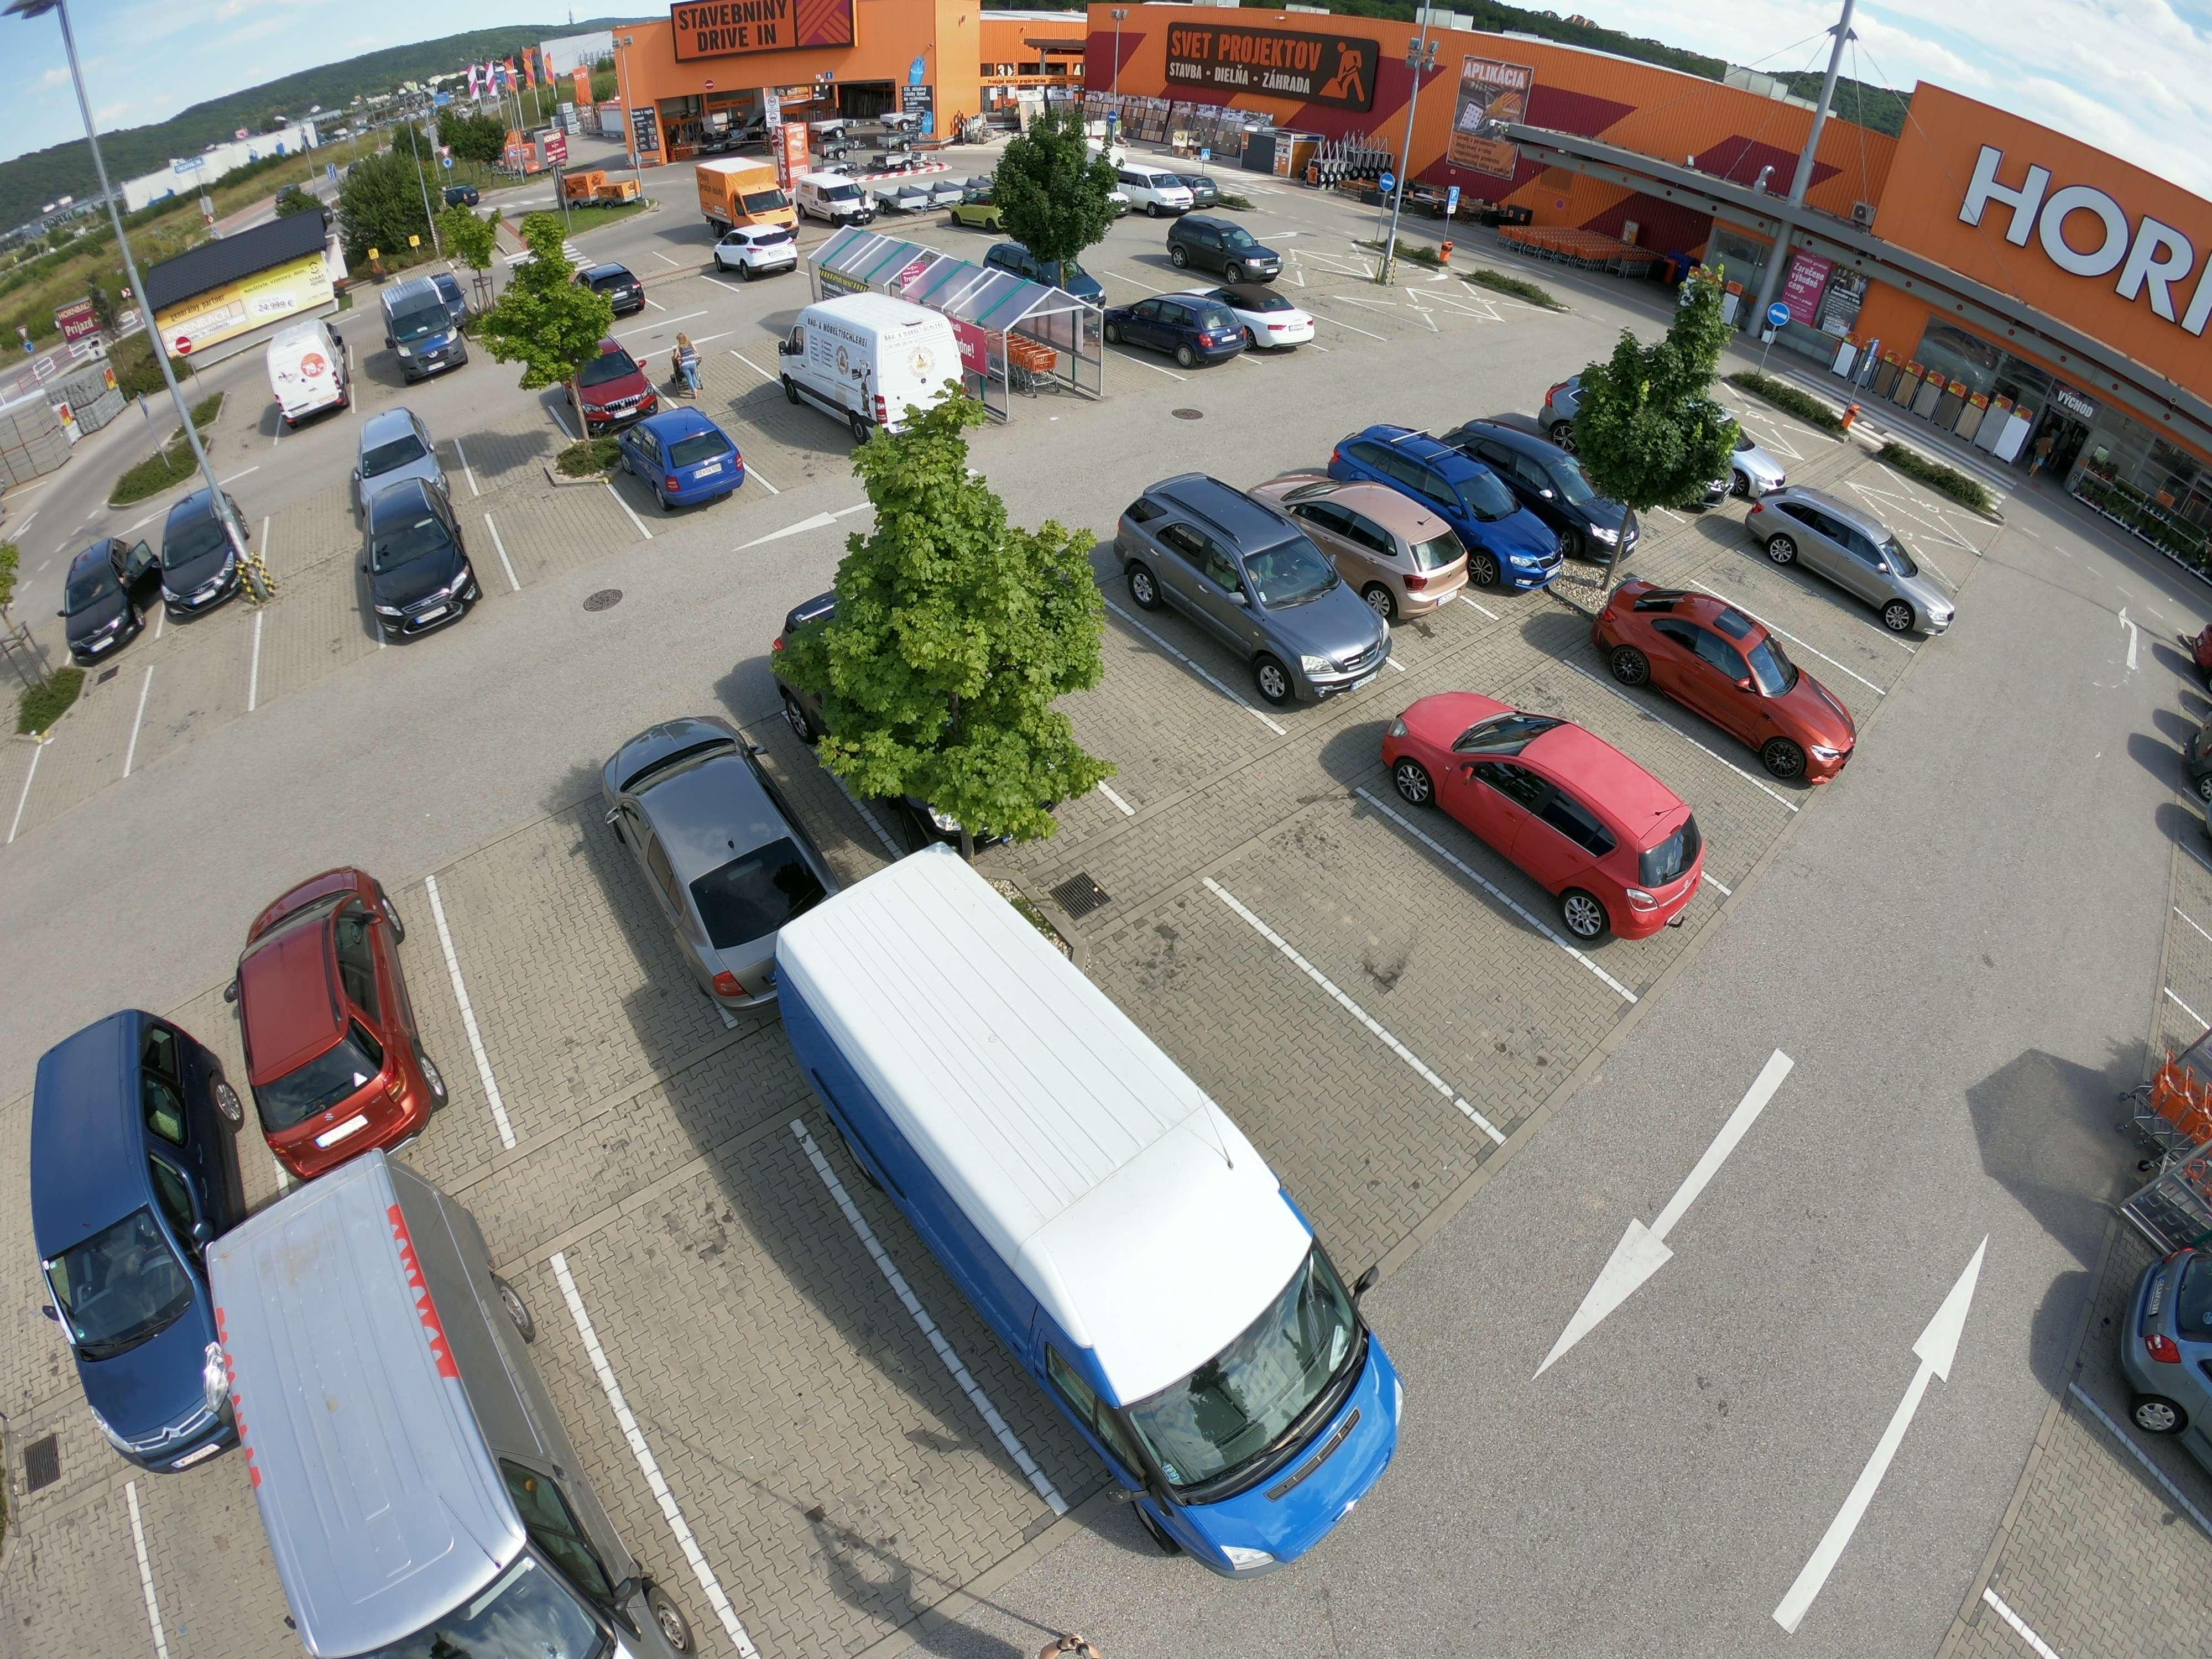empty: (789, 816, 1407, 1549), (225, 1141, 653, 1659), (17, 990, 270, 1493), (604, 714, 871, 986), (1395, 695, 1705, 925), (221, 870, 435, 1159), (1115, 486, 1397, 692), (1611, 594, 1858, 769), (2101, 1249, 2205, 1593), (1352, 432, 1555, 575), (1777, 493, 1963, 636), (1280, 476, 1468, 598), (355, 474, 488, 640), (780, 307, 941, 430), (1470, 429, 1623, 549), (138, 484, 260, 613), (615, 408, 752, 511), (59, 538, 155, 653), (1111, 293, 1249, 371), (385, 284, 486, 385), (561, 328, 664, 422), (265, 335, 361, 423), (1217, 288, 1329, 359), (1165, 213, 1278, 281), (712, 214, 808, 282), (1122, 164, 1221, 214), (801, 173, 873, 223)
occupied: (662, 1279, 890, 1488), (472, 877, 639, 1035), (1327, 892, 1486, 997), (1190, 978, 1327, 1087), (1569, 690, 1705, 791), (1723, 559, 1846, 653), (1085, 659, 1200, 746), (45, 697, 134, 781), (268, 584, 361, 662), (158, 643, 253, 718), (258, 472, 347, 549), (519, 490, 608, 551), (193, 415, 282, 476), (740, 408, 826, 465), (672, 336, 752, 390), (463, 413, 540, 467), (641, 274, 733, 315)
